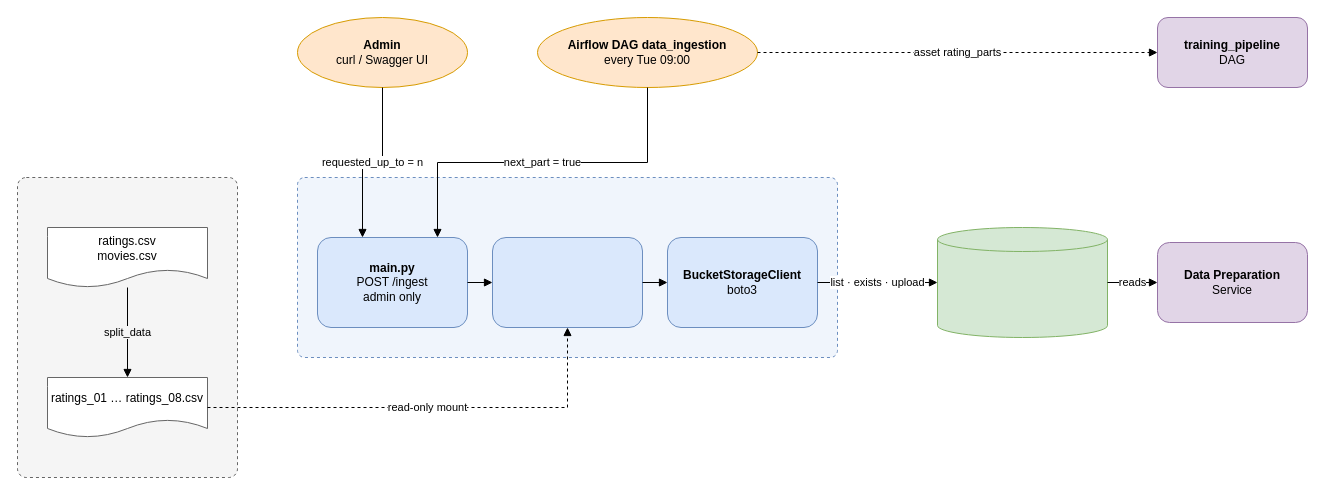
The diagram is 1325 pixels wide and 495 high, and some of its shapes have lost their labels. The shapes that lost their labels are listed below. From the top down, each one's box as (x1, y1, x2, y2) in pixels, then its label:
(296, 176, 838, 358): Data Collection Service · Docker · :8001
(492, 236, 642, 328): ingest.py ingest_up_to()
(936, 226, 1108, 338): DagsHub S3 bucket movies.csv ratings_parts/
(16, 176, 238, 478): Local data (DVC)
